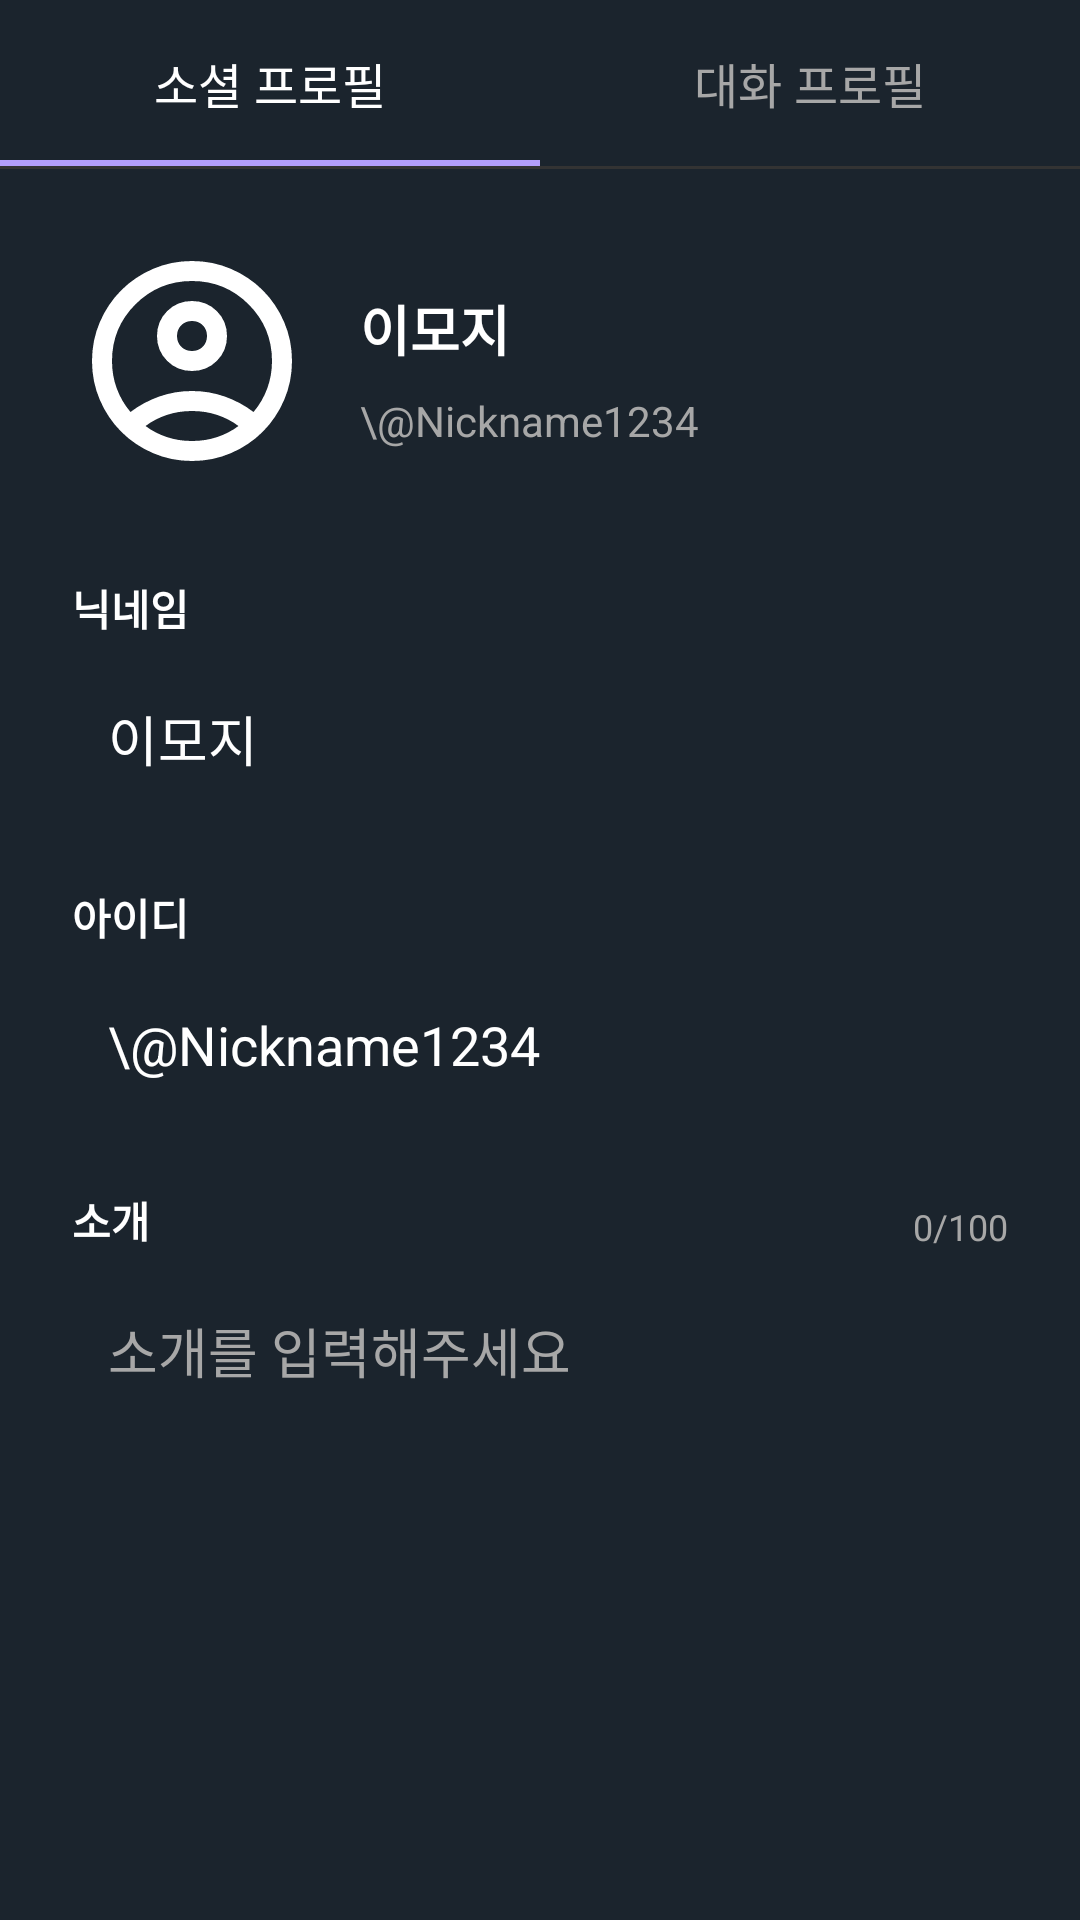

Icons on this 1080x1920 Android screen, each with the point to tap as [x,y]:
profile: [192,361]
